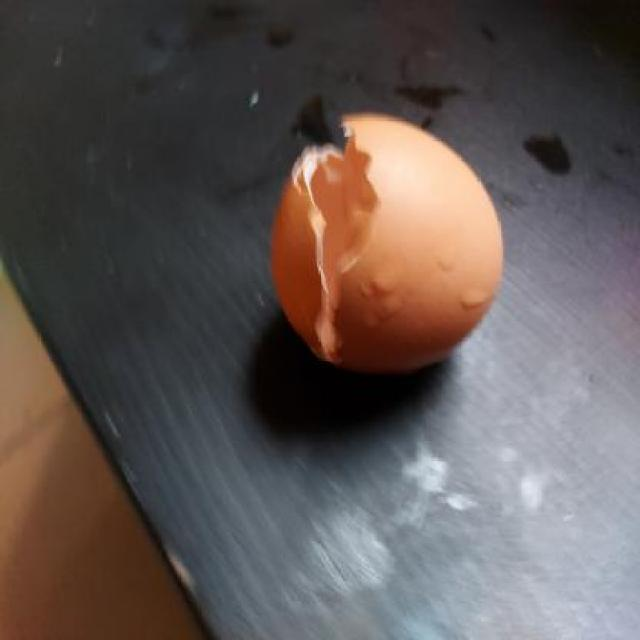biodegradable: (268, 110, 502, 378)
